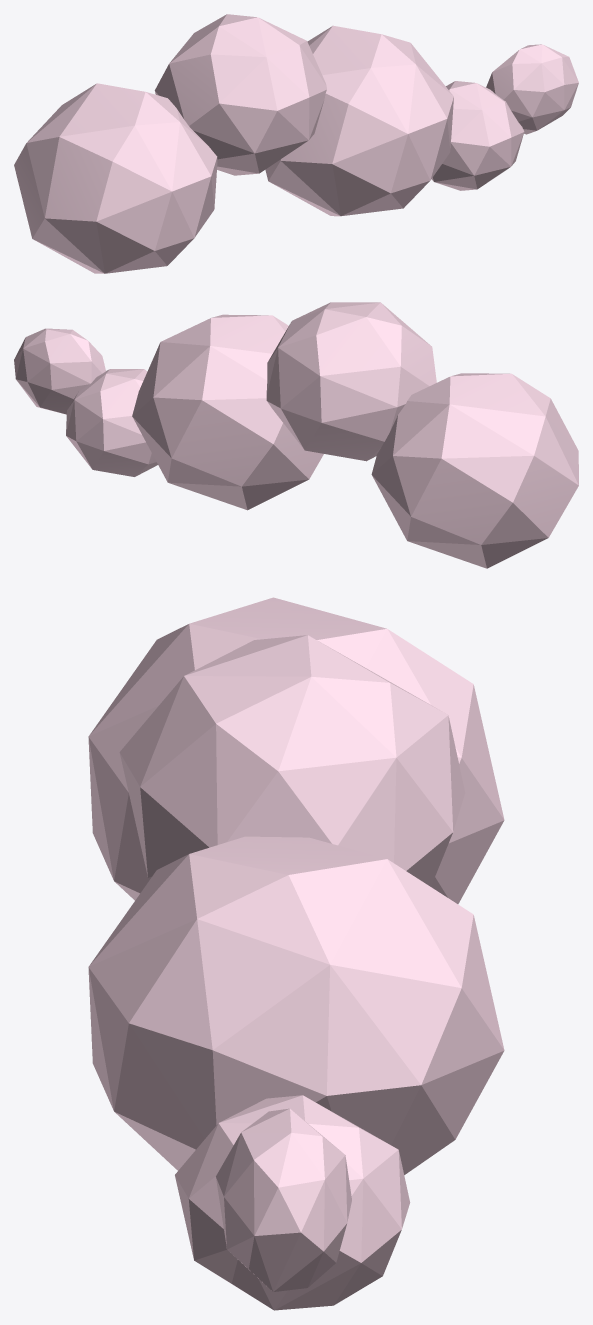
Rendered from cloud_18.fbx.
3 renders of one model, top to bottom at view 1: azimuth 30°, elevation 25°; view 2: azimuth 150°, elevation 25°; view 3: azimuth 270°, elevation 25°, orthographic. The views are drawn at different scales.
Visible parts, largest first — view 1: cloud_18; view 2: cloud_18; view 3: cloud_18.
Boxes of the visible parts, x1,y1,x2,y2 form: cloud_18: (14,14,578,273); cloud_18: (14,302,578,568); cloud_18: (88,597,504,1310).
Bounding box in the file's own units: 768 × 291 × 256.
